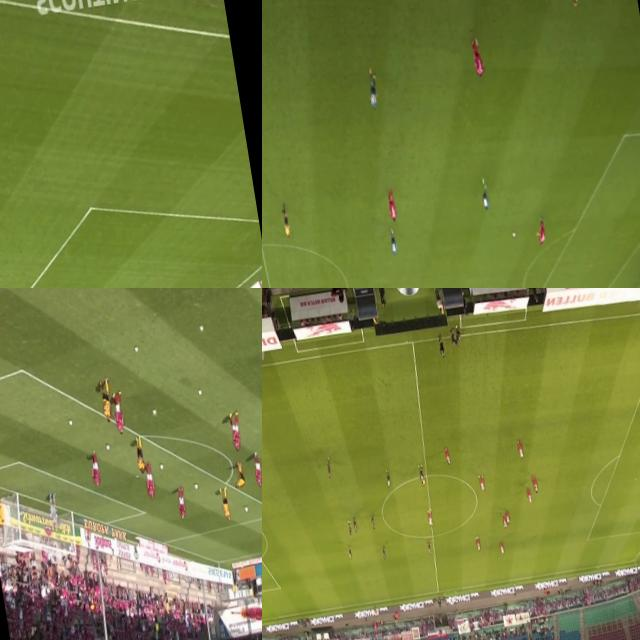ball: (158, 461, 166, 472), (511, 230, 518, 241), (105, 442, 112, 453), (68, 418, 74, 429), (134, 344, 140, 354), (193, 484, 200, 491), (244, 506, 250, 514), (152, 408, 157, 416), (199, 326, 204, 334), (198, 387, 202, 396), (429, 506, 433, 512)
player: (228, 408, 245, 454), (364, 67, 381, 111), (98, 382, 115, 423), (112, 392, 128, 434), (471, 38, 485, 79), (478, 176, 492, 212), (49, 494, 62, 530), (386, 188, 398, 224), (144, 462, 156, 498), (90, 451, 102, 486), (134, 437, 146, 472), (220, 487, 232, 522), (176, 488, 189, 520), (251, 450, 262, 486), (232, 464, 246, 489), (536, 217, 548, 246), (390, 228, 400, 255), (516, 437, 526, 461), (478, 474, 487, 494), (418, 462, 426, 484), (474, 534, 482, 554), (385, 469, 392, 490), (369, 512, 377, 530), (426, 509, 434, 527), (352, 514, 359, 534), (532, 475, 539, 494), (326, 458, 332, 480), (445, 448, 452, 465), (526, 488, 533, 503), (348, 546, 354, 562), (427, 542, 433, 556), (505, 510, 511, 524), (381, 546, 386, 562), (348, 520, 352, 538), (502, 514, 507, 528), (500, 542, 504, 556)
